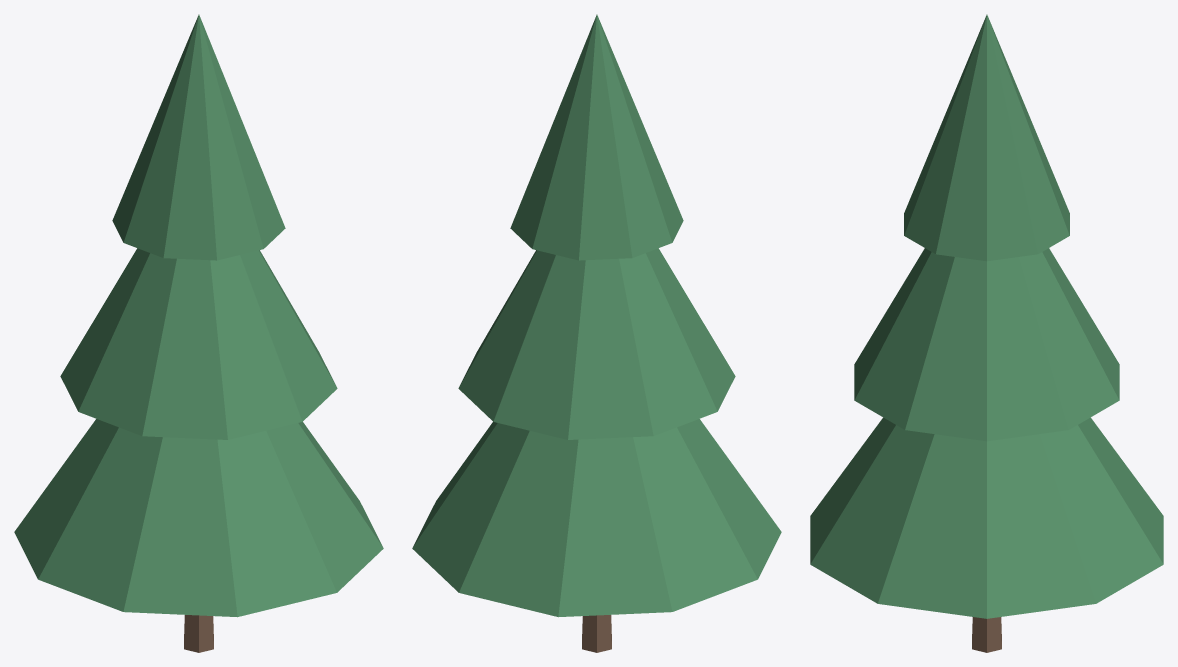
File: tree.glb
The picture shows the model from 3 angles, left to right: view 1: azimuth 30°, elevation 25°; view 2: azimuth 150°, elevation 25°; view 3: azimuth 270°, elevation 25°; orthographic projection.
Parts seen in each view (by area): view 1: tree; view 2: tree; view 3: tree.
Boxes of the visible parts, left/top/right/bottom form: tree: left=14, top=14, right=383, bottom=652; tree: left=412, top=14, right=781, bottom=652; tree: left=810, top=14, right=1163, bottom=652.
Bounding box in the file's own units: 6.4 × 12 × 6.09.
